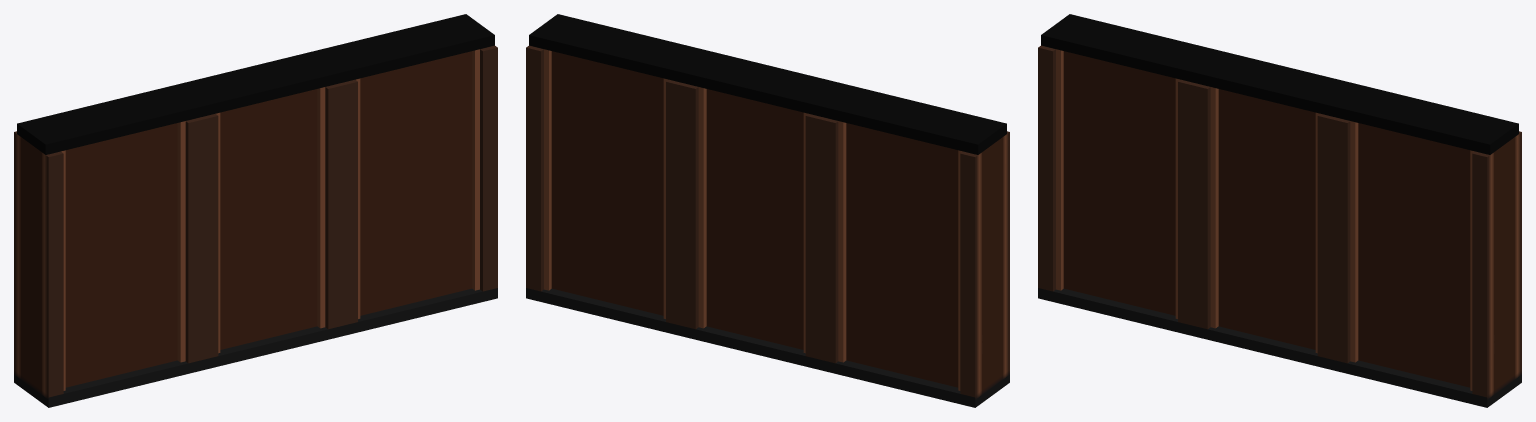
Rendered from Wall-Wood-Model-09.fbx.
The picture shows the model from 3 angles, left to right: view 1: azimuth 30°, elevation 25°; view 2: azimuth 150°, elevation 25°; view 3: azimuth 330°, elevation 25°; orthographic projection.
Visible parts, largest first — view 1: Wall-Wood-Model-09; view 2: Wall-Wood-Model-09; view 3: Wall-Wood-Model-09.
Part boxes in pixels (x1=…): Wall-Wood-Model-09: x1=14, y1=14, x2=497, y2=407; Wall-Wood-Model-09: x1=526, y1=14, x2=1009, y2=407; Wall-Wood-Model-09: x1=1038, y1=14, x2=1521, y2=407.
Size of the model in its own units: 90 by 50 by 12.
Materials: 1 (1 with a texture image).
